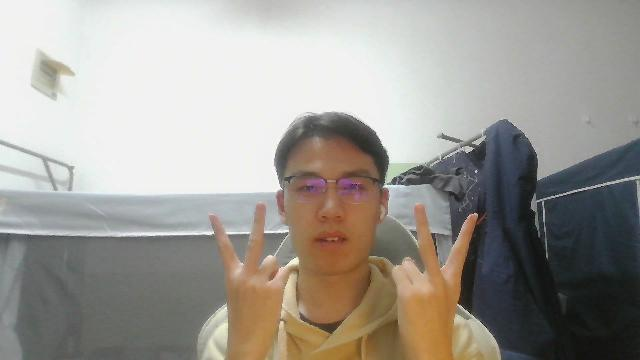yes: (387, 199, 478, 360), (202, 201, 289, 346)
